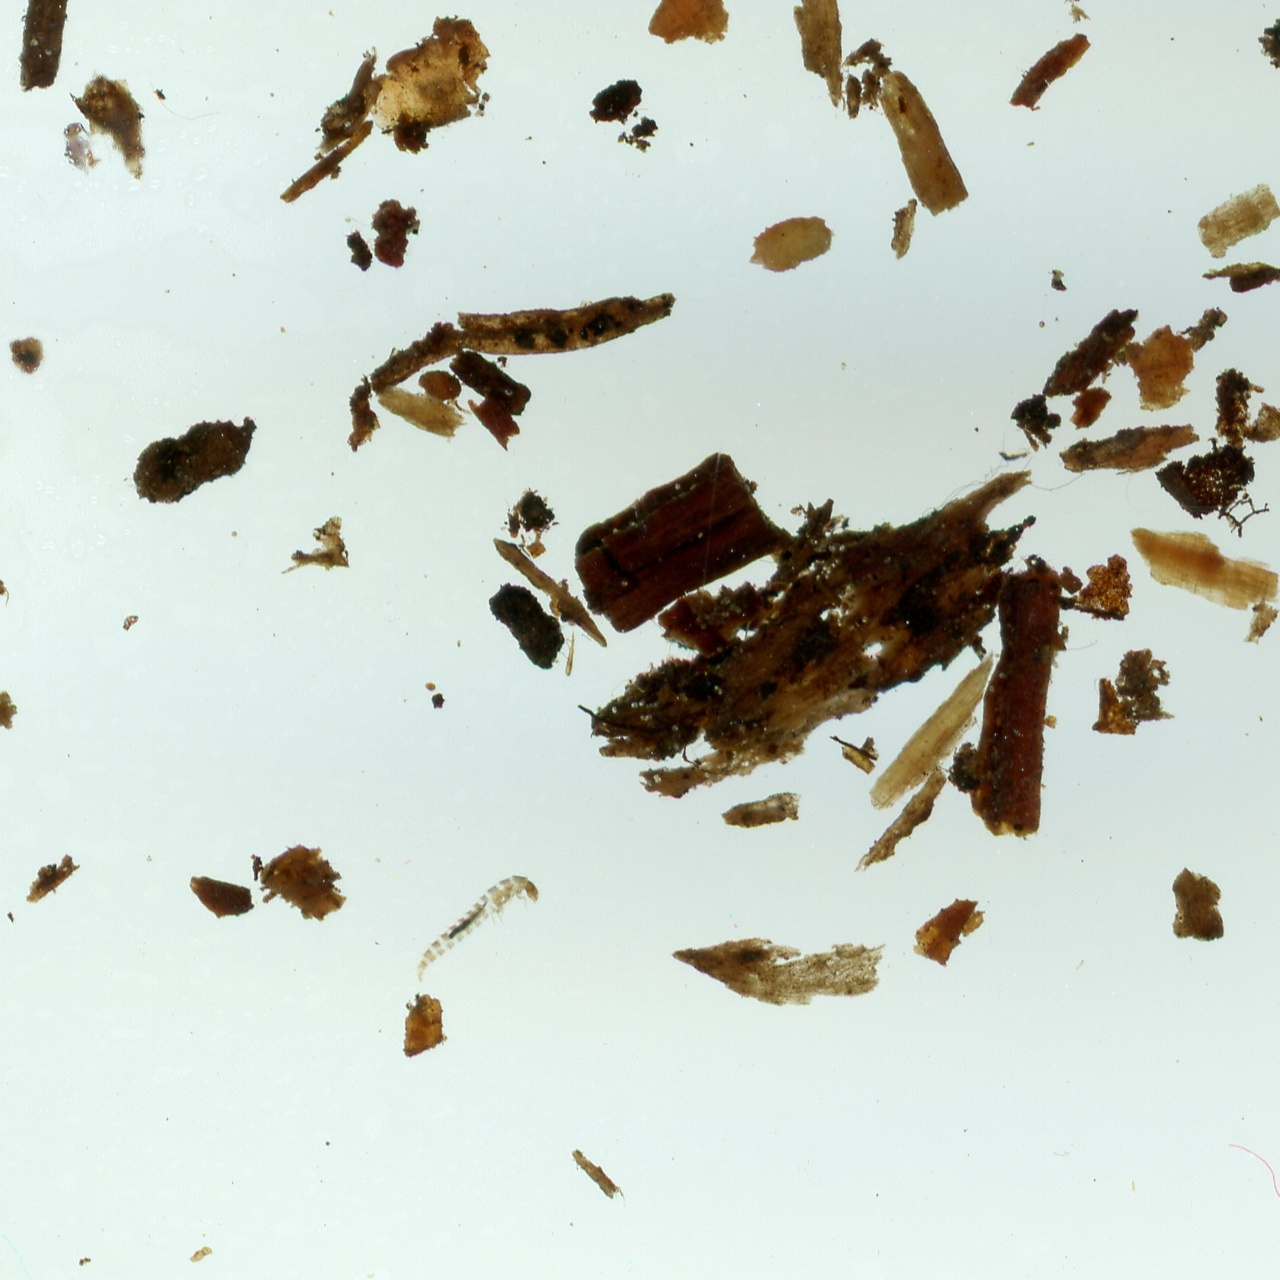arthropod: (390, 856, 551, 994), (52, 116, 108, 184)
